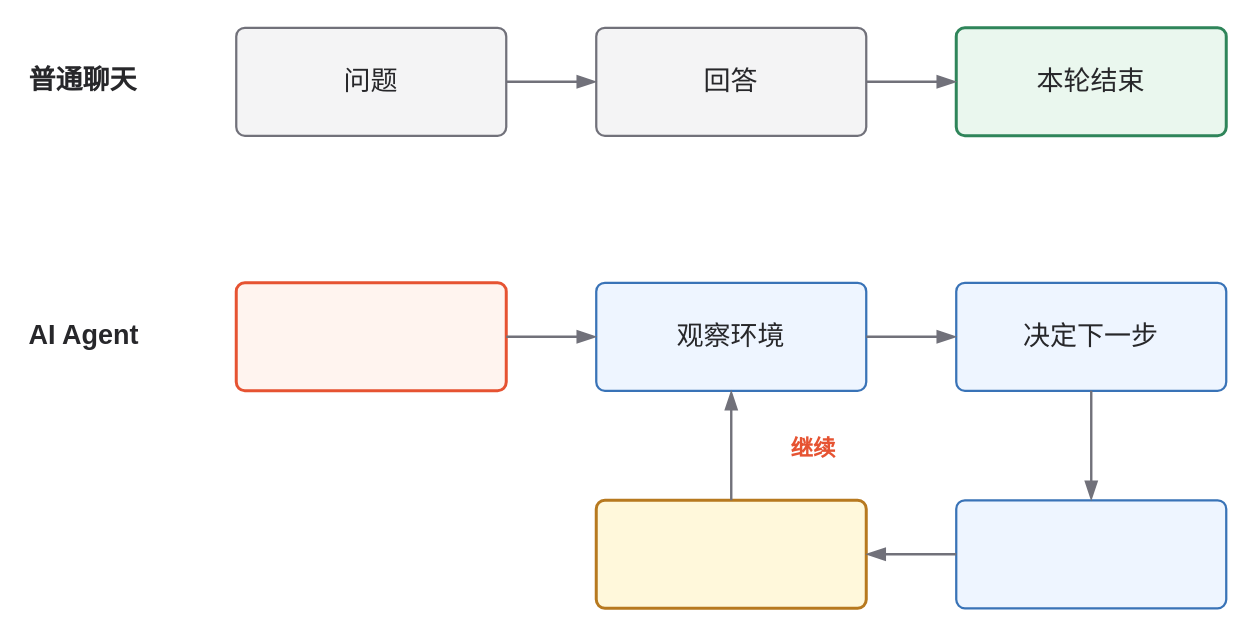
This 1253x635 diagram has some shape labels left out. The box of each missing label's shape, as (x1, y1, x2, y2) in pixels:
目标: (234, 280, 507, 392)
行动: (954, 498, 1227, 609)
读取结果: (594, 498, 867, 609)
